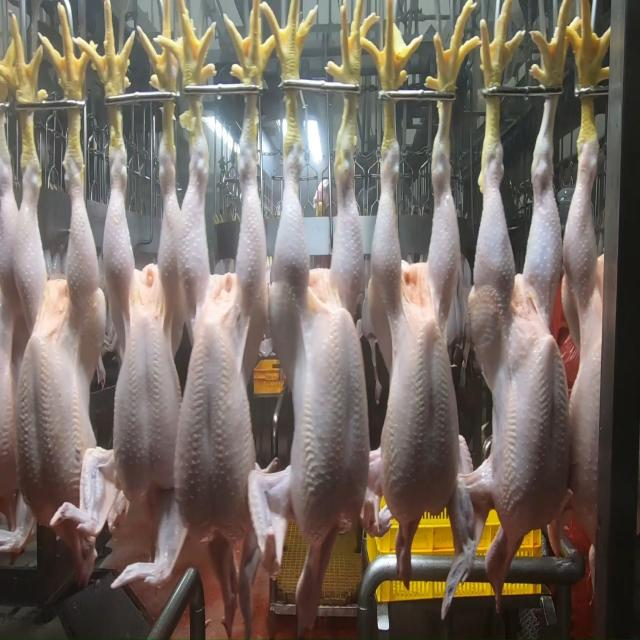chicken: (476, 119, 572, 549), (276, 113, 368, 541), (178, 133, 270, 550), (374, 134, 470, 525), (20, 141, 105, 550), (101, 142, 186, 514)
